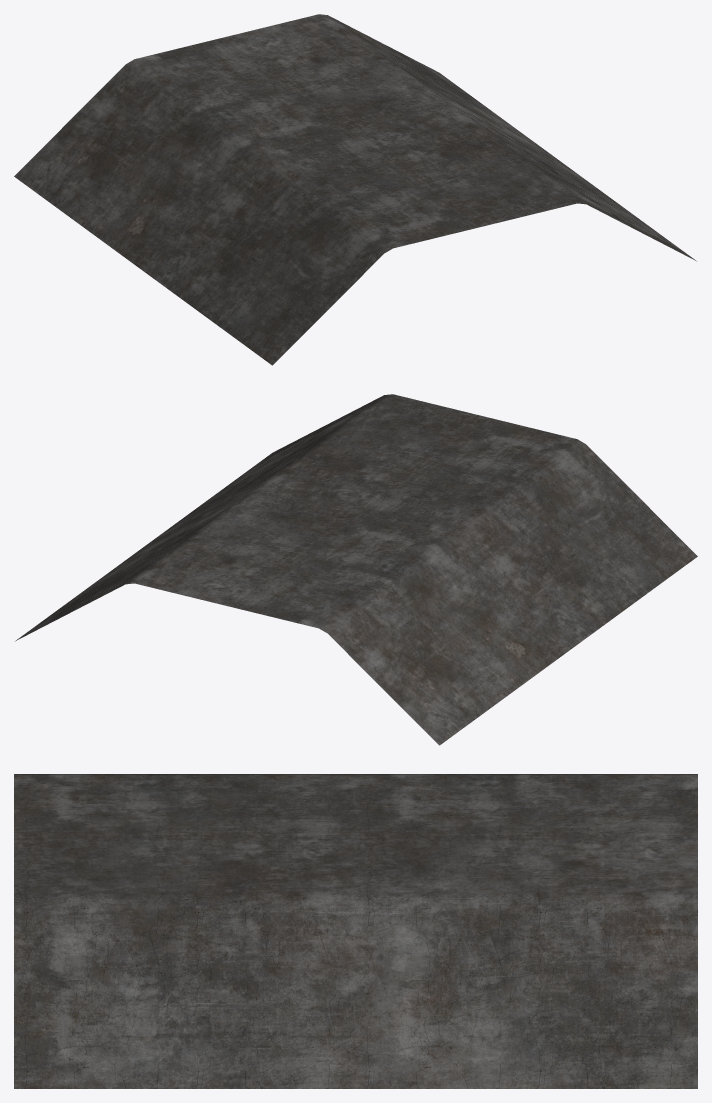
Rendered from Basement_Corridor_A_Ceiling_Arched_4x4m.glb.
3 renders of one model, top to bottom at view 1: azimuth 30°, elevation 25°; view 2: azimuth 150°, elevation 25°; view 3: azimuth 270°, elevation 25°, orthographic. The views are drawn at different scales.
Parts seen in each view (by area): view 1: Basement_Corridor_A_Ceiling_Arched_4x4m; view 2: Basement_Corridor_A_Ceiling_Arched_4x4m; view 3: Basement_Corridor_A_Ceiling_Arched_4x4m.
Part boxes in pixels (x1,y1,x2,y2): Basement_Corridor_A_Ceiling_Arched_4x4m: (14,14,696,365); Basement_Corridor_A_Ceiling_Arched_4x4m: (15,394,697,745); Basement_Corridor_A_Ceiling_Arched_4x4m: (14,774,697,1088).
Bounding box in the file's own units: 3.8 × 0.75 × 4.
1 material, 1 textured.
